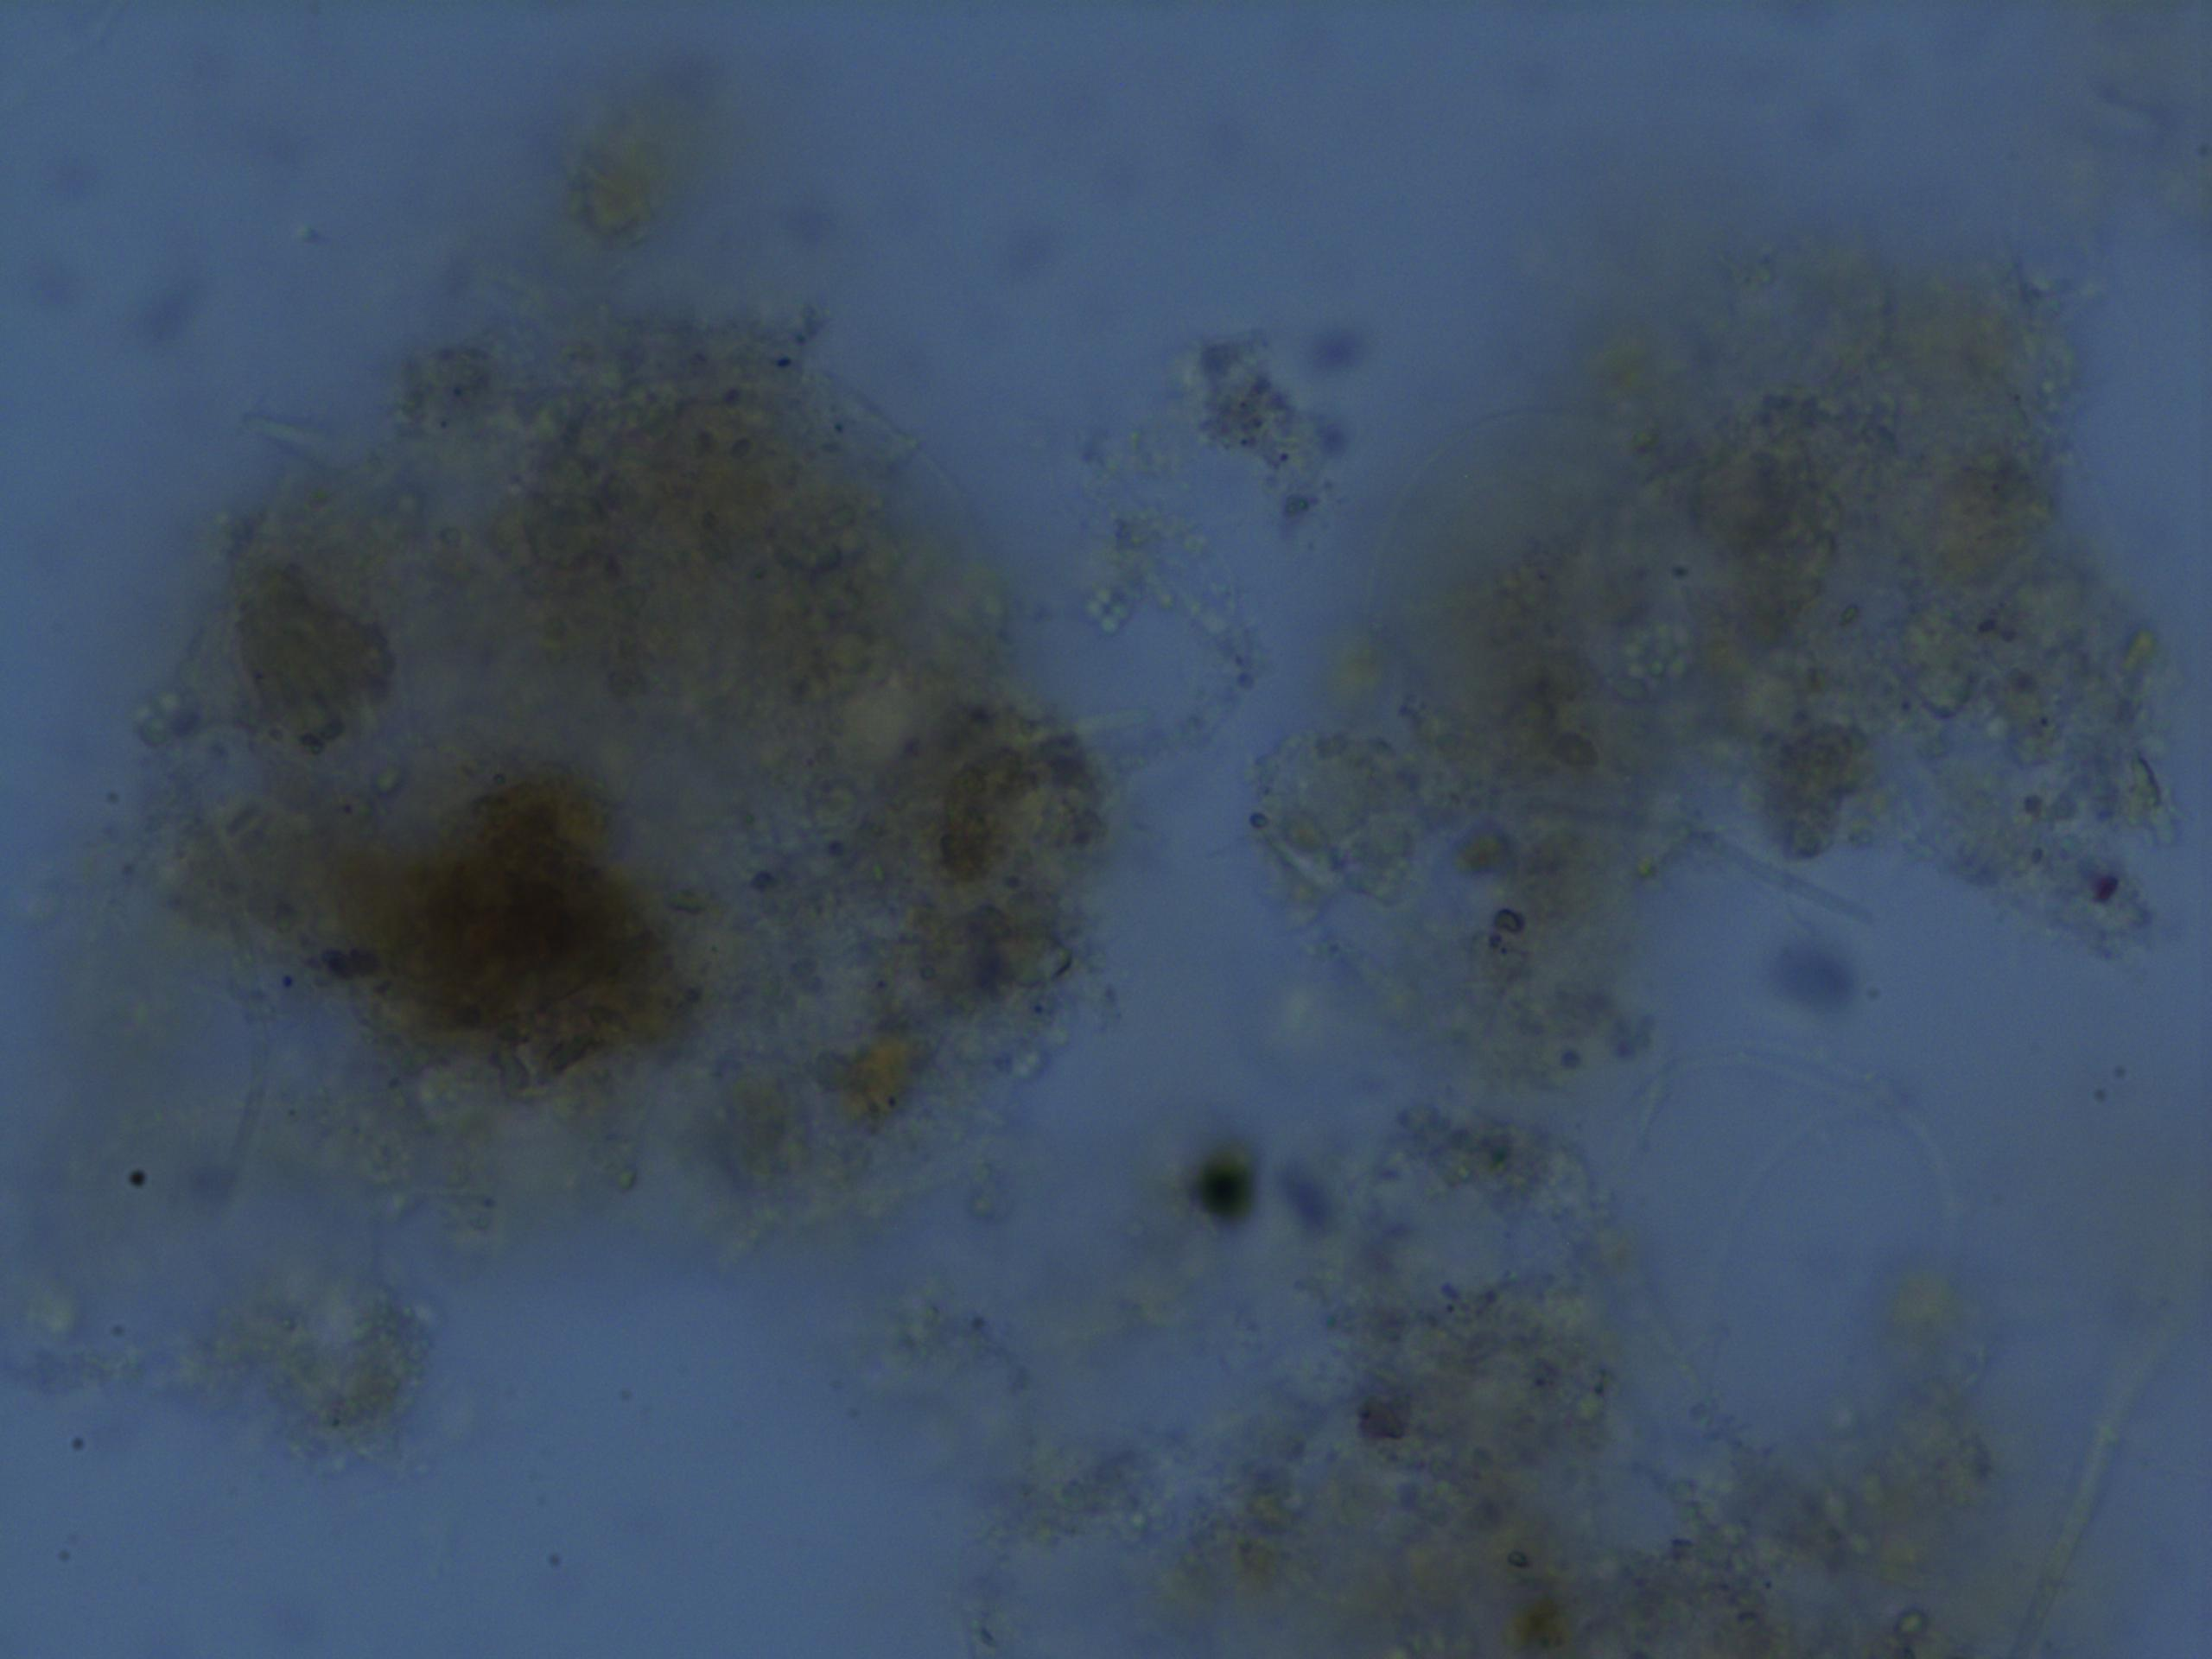filament: (1604, 1032, 2003, 1335), (2038, 1303, 2212, 1659), (1550, 798, 1900, 951)
open_floc: (115, 202, 2212, 1659)
